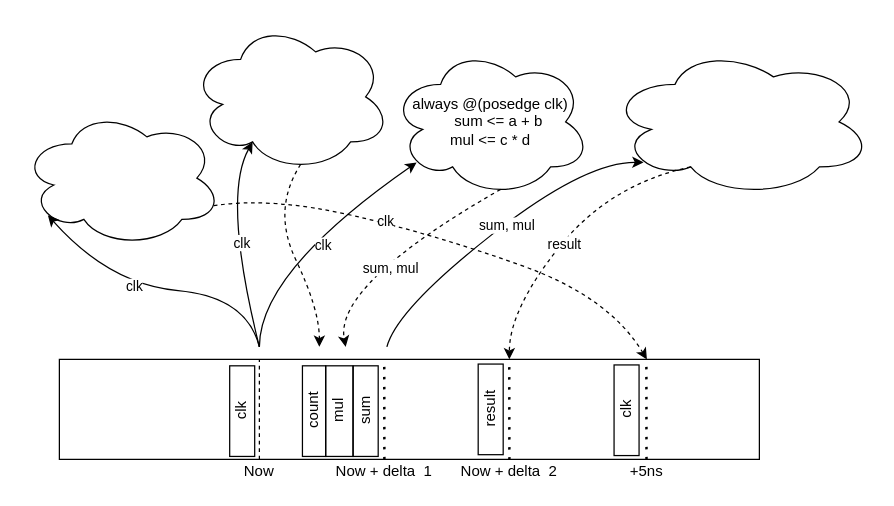
Image size: 894x506. Some labels were removed from this diagram. Here are the shapes that lost their labels. From the top down, the centre of each, then its label:
the point at 290,96: always @(posedge clk) count <= count + 1
the point at 740,121: always @(*) result = sum + mul
the point at 121,177: assign clk = #5 clk
